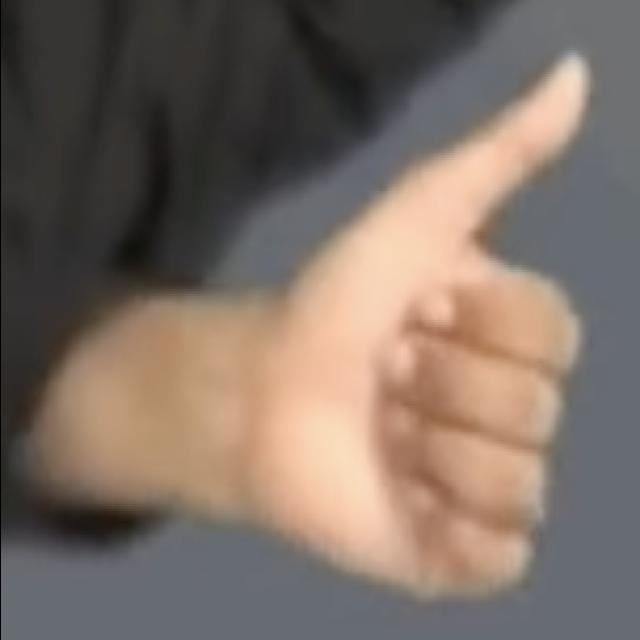A: (242, 36, 600, 610)
